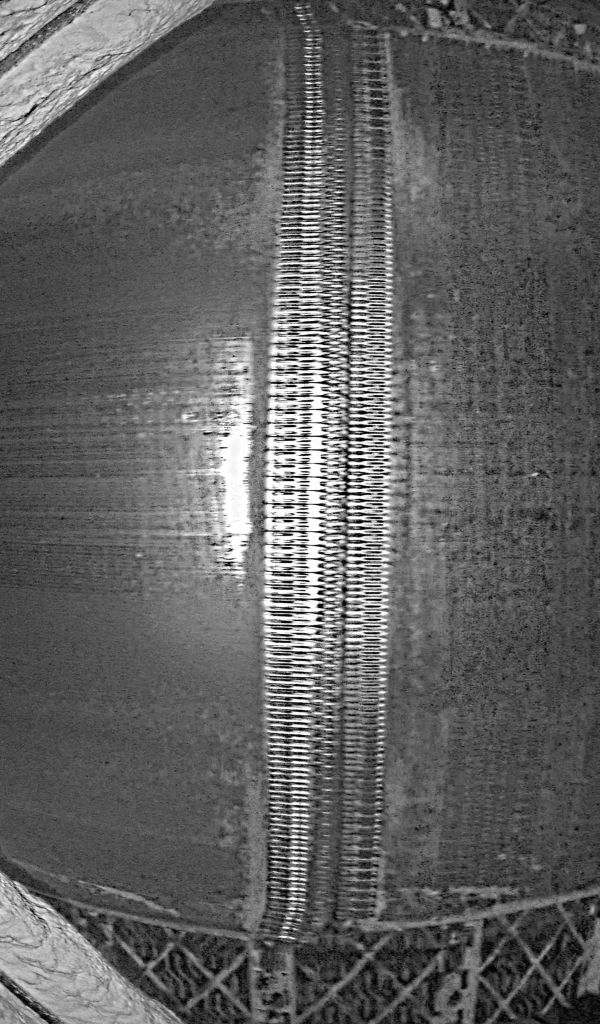splice: (260, 18, 395, 942)
